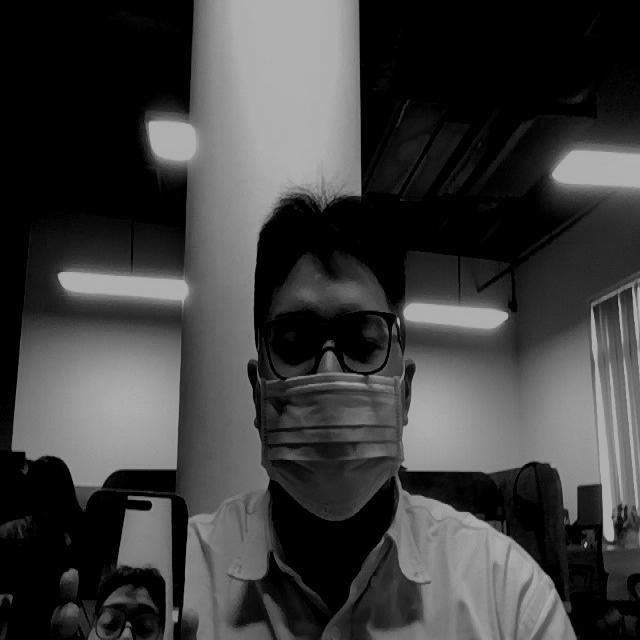fake: (256, 365, 409, 527), (74, 475, 209, 640), (89, 563, 173, 640)
real: (231, 156, 441, 540), (253, 309, 403, 376)
